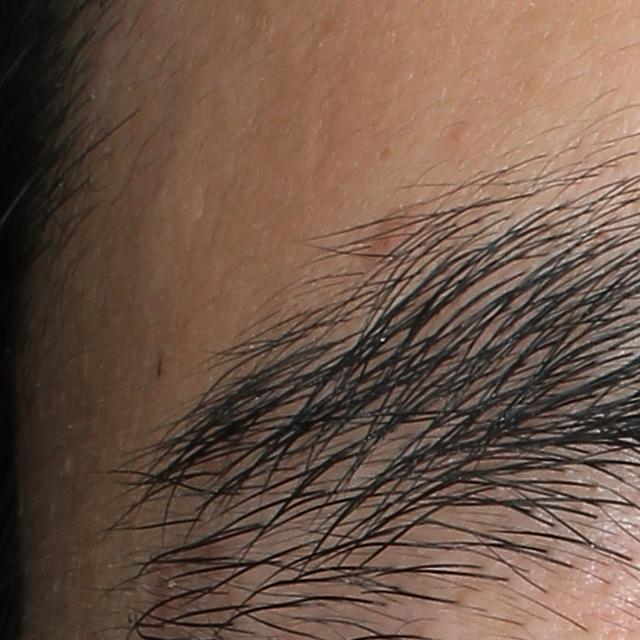nevus: (153, 351, 165, 381)
